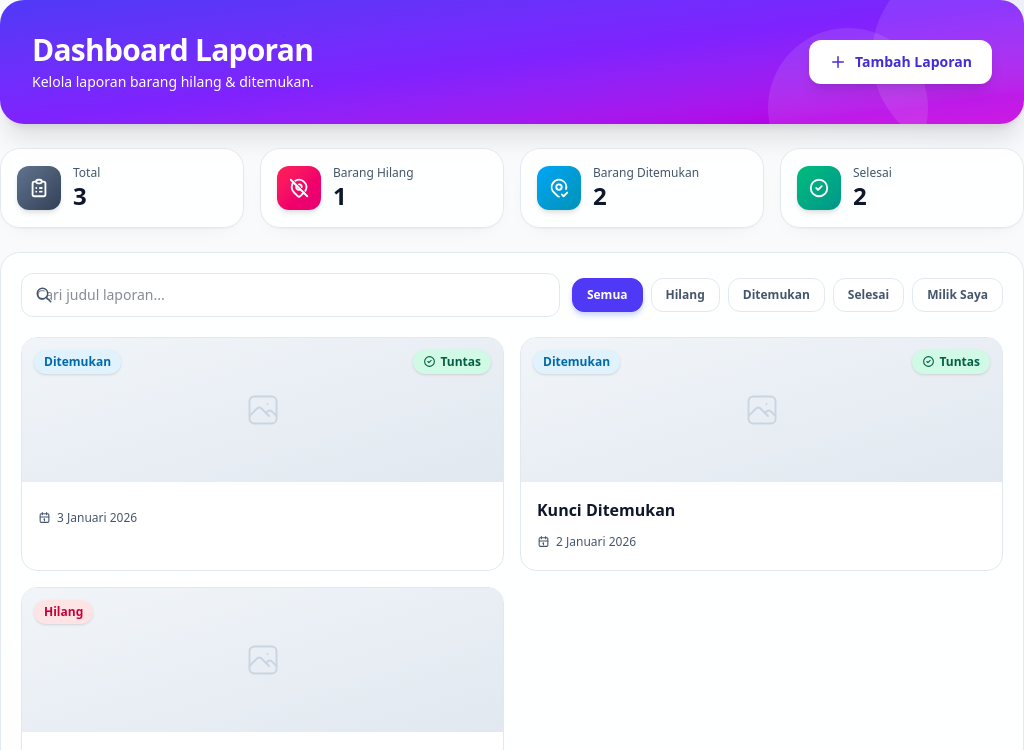
Test: HomePage › mencari berdasarkan judul memfilter daftar secara client-side
Type "Dompet" into the search field with placeholder "Cari judul laporan..." at (290,295), box [21,273,560,317]
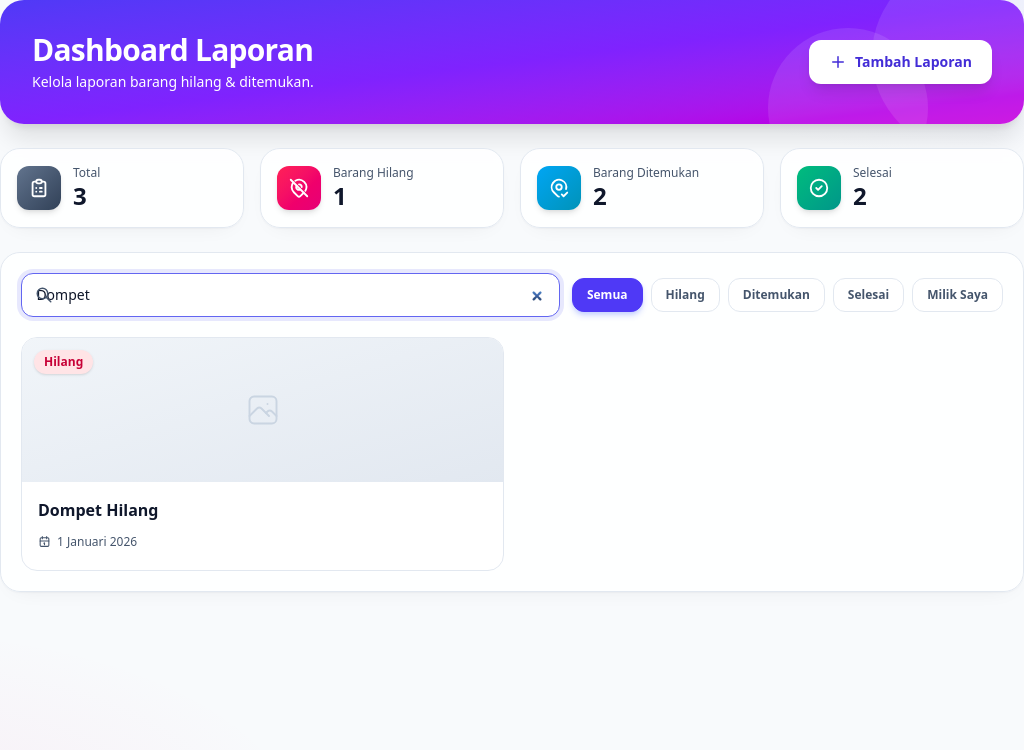
Expected: the text "Dompet Hilang" is shown, [38,499,158,521]
Now the link "Kunci Ditemukan" is gone
